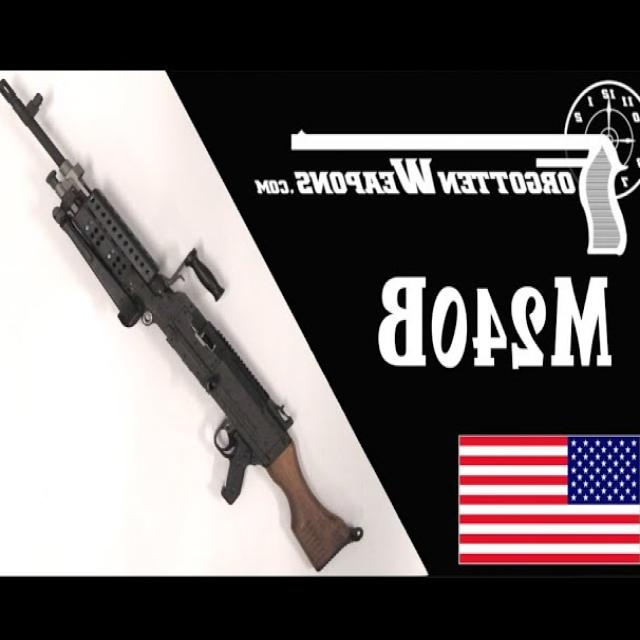Gun: (0, 92, 397, 600)
